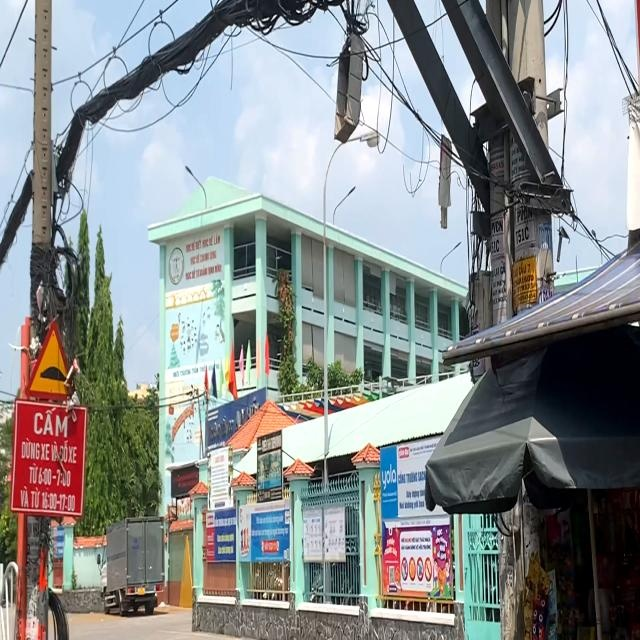bien_nguy_hiem: (24, 321, 82, 398)
